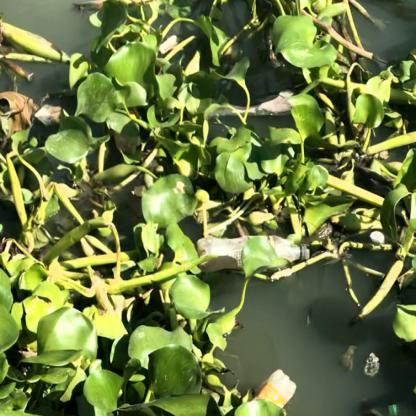Plastic: (197, 234, 311, 275)
